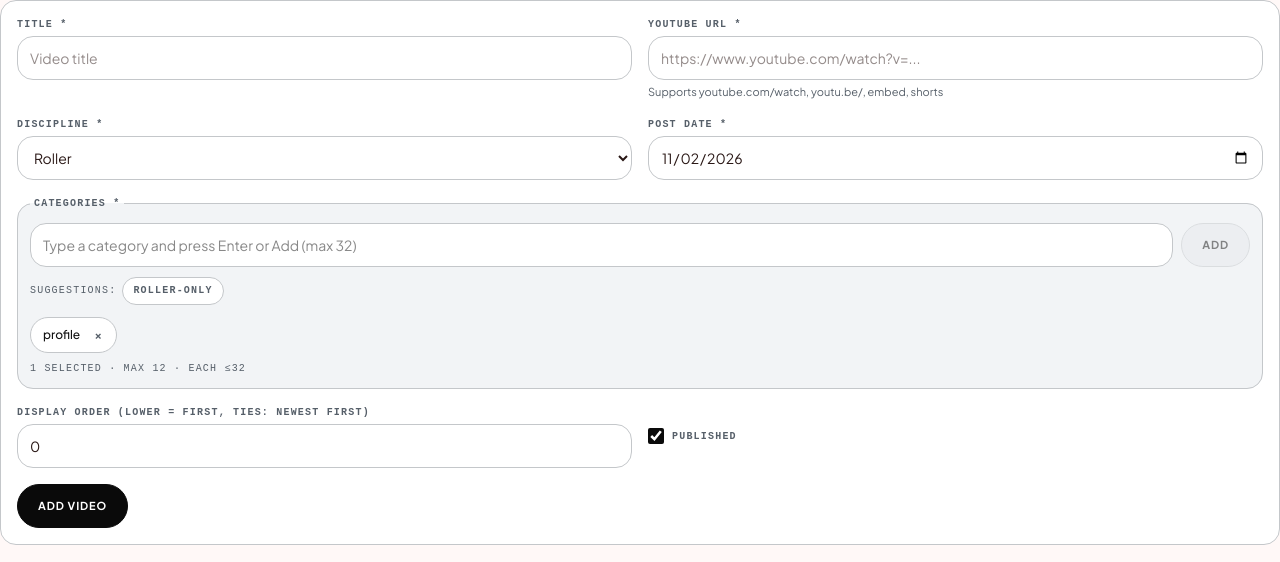
Test case: TvForm discipline-scoped suggestions › refetches pills when the discipline changes
Expected: the button "roller-only" is shown, [122, 276, 224, 304]
Select "Skateboard" in the dropdown: (324, 158) [17, 136, 632, 180]
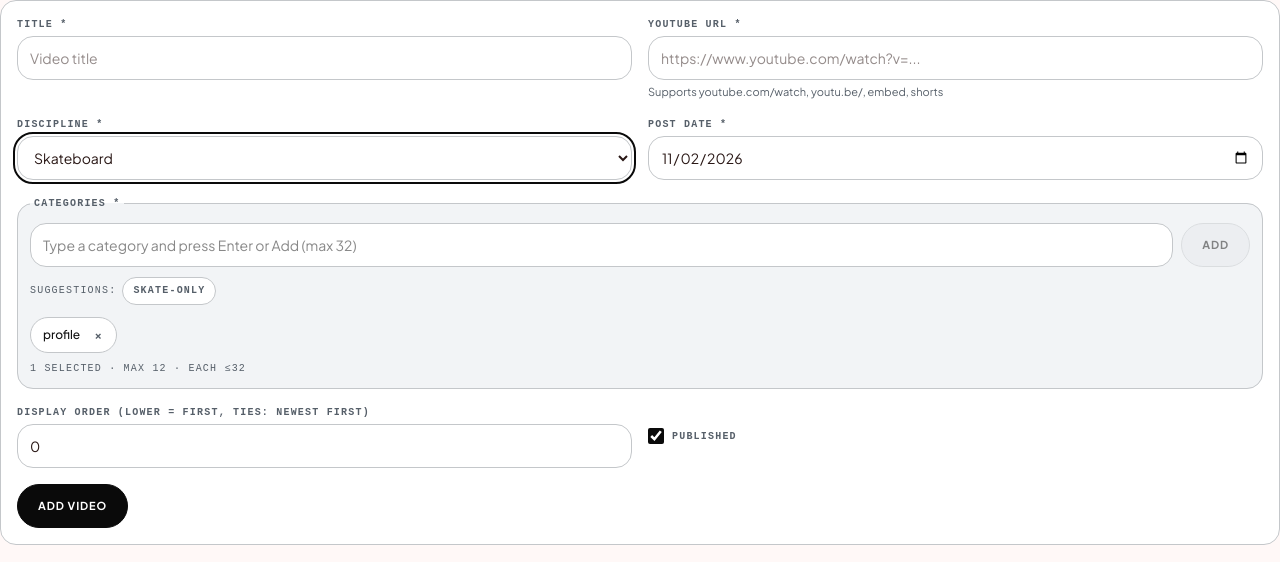
Expected: the button "skate-only" is shown, [122, 276, 216, 304]
Expected: the button "roller-only" is gone
